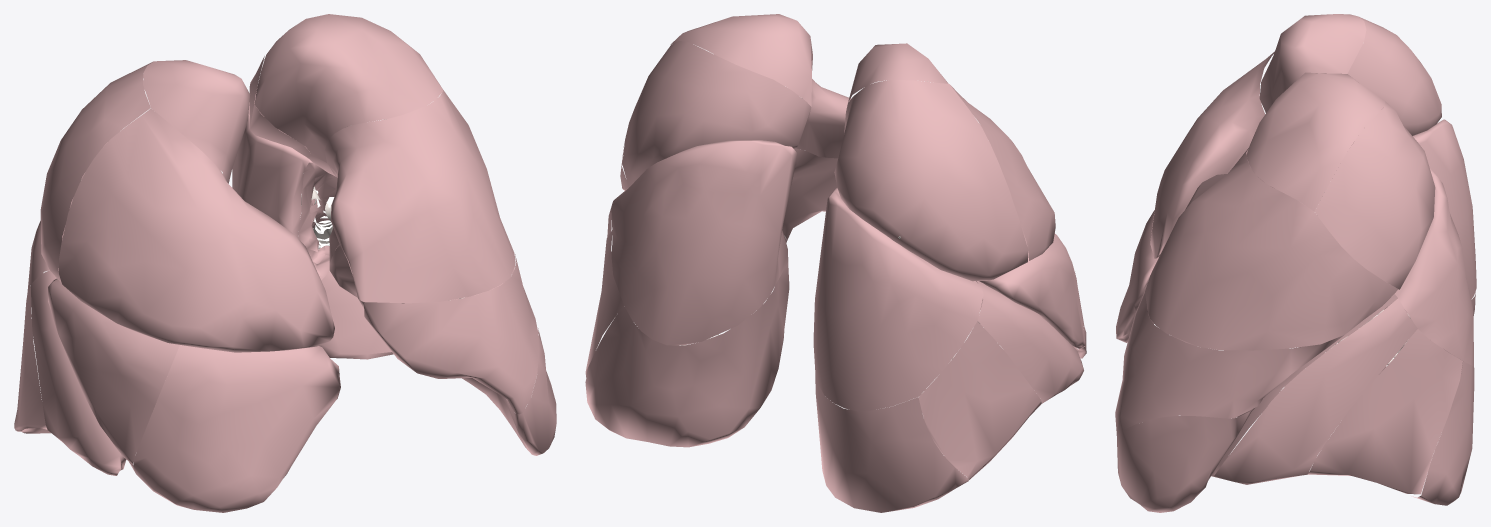
Rendered from 3d-vh-m-lung-20.glb.
The picture shows the model from 3 angles, left to right: view 1: azimuth 30°, elevation 25°; view 2: azimuth 150°, elevation 25°; view 3: azimuth 270°, elevation 25°; orthographic projection. The views are drawn at different scales.
Parts seen in each view (by area): view 1: VH_M_right_anterior_bronchopulmonary_segment, VH_M_left_anterior_bronchopulmonary_segment, VH_M_right_medial_bronchopulmonary_segment, VH_M_left_apical_bronchopulmonary_segment, VH_M_left_lingula_superior_bronchopulmonary_segment, VH_M_right_lateral_bronchopulmonary_segment, VH_M_right_apical_bronchopulmonary_segment, VH_M_right_posterior_bronchopulmonary_segment, VH_M_right_anterior_basal_bronchopulmonary_segment, VH_M_left_superior_bronchopulmonary_segment, VH_M_left_lingula_inferior_bronchopulmonary_segment, VH_M_left_medial_basal_bronchopulmonary_segment (+5 smaller); view 2: VH_M_left_superior_bronchopulmonary_segment, VH_M_right_posterior_bronchopulmonary_segment, VH_M_right_superior_bronchopulmonary_segment, VH_M_left_posetrior_basal_bronchopulmonary_segment, VH_M_left_posterior_bronchopulmonary_segment, VH_M_right_posterior_basal_bronchopulmonary_segment, VH_M_right_lateral_basal_bronchopulmonary_segment, VH_M_left_apical_bronchopulmonary_segment, VH_M_right_anterior_basal_bronchopulmonary_segment, VH_M_right_lateral_bronchopulmonary_segment, VH_M_right_anterior_bronchopulmonary_segment, VH_M_left_lingula_superior_bronchopulmonary_segment (+3 smaller); view 3: VH_M_left_anterior_bronchopulmonary_segment, VH_M_left_posterior_bronchopulmonary_segment, VH_M_left_lateral_basal_bronchopulmonary_segment, VH_M_left_anterior_basal_bronchopulmonary_segment, VH_M_left_lingula_superior_bronchopulmonary_segment, VH_M_left_apical_bronchopulmonary_segment, VH_M_left_lingula_inferior_bronchopulmonary_segment, VH_M_right_anterior_bronchopulmonary_segment, VH_M_left_superior_bronchopulmonary_segment, VH_M_right_posterior_bronchopulmonary_segment, VH_M_right_apical_bronchopulmonary_segment, VH_M_left_posetrior_basal_bronchopulmonary_segment (+3 smaller).
Part boxes in pixels (left/top/right/bottom): VH_M_right_anterior_bronchopulmonary_segment: left=59, top=108, right=334, bottom=352; VH_M_left_anterior_bronchopulmonary_segment: left=324, top=90, right=515, bottom=303; VH_M_right_medial_bronchopulmonary_segment: left=129, top=345, right=340, bottom=512; VH_M_left_apical_bronchopulmonary_segment: left=254, top=14, right=443, bottom=162; VH_M_left_lingula_superior_bronchopulmonary_segment: left=359, top=254, right=538, bottom=414; VH_M_right_lateral_bronchopulmonary_segment: left=48, top=278, right=179, bottom=465; VH_M_right_apical_bronchopulmonary_segment: left=143, top=60, right=250, bottom=183; VH_M_right_posterior_bronchopulmonary_segment: left=40, top=62, right=152, bottom=283; VH_M_right_anterior_basal_bronchopulmonary_segment: left=30, top=269, right=126, bottom=475; VH_M_left_superior_bronchopulmonary_segment: left=232, top=88, right=312, bottom=238; VH_M_left_lingula_inferior_bronchopulmonary_segment: left=329, top=244, right=556, bottom=455; VH_M_left_medial_basal_bronchopulmonary_segment: left=319, top=271, right=502, bottom=359; VH_M_left_superior_bronchopulmonary_segment: left=611, top=140, right=796, bottom=345; VH_M_right_posterior_bronchopulmonary_segment: left=834, top=80, right=1028, bottom=281; VH_M_right_superior_bronchopulmonary_segment: left=813, top=187, right=983, bottom=411; VH_M_left_posetrior_basal_bronchopulmonary_segment: left=585, top=262, right=789, bottom=447; VH_M_left_posterior_bronchopulmonary_segment: left=622, top=41, right=811, bottom=187; VH_M_right_posterior_basal_bronchopulmonary_segment: left=815, top=369, right=968, bottom=512; VH_M_right_lateral_basal_bronchopulmonary_segment: left=918, top=321, right=1041, bottom=480; VH_M_left_apical_bronchopulmonary_segment: left=670, top=14, right=812, bottom=106; VH_M_right_anterior_basal_bronchopulmonary_segment: left=977, top=281, right=1083, bottom=403; VH_M_right_lateral_bronchopulmonary_segment: left=976, top=232, right=1085, bottom=348; VH_M_right_anterior_bronchopulmonary_segment: left=950, top=85, right=1055, bottom=260; VH_M_left_lingula_superior_bronchopulmonary_segment: left=623, top=148, right=838, bottom=240; VH_M_left_anterior_bronchopulmonary_segment: left=1145, top=148, right=1398, bottom=350; VH_M_left_posterior_bronchopulmonary_segment: left=1314, top=101, right=1435, bottom=289; VH_M_left_lateral_basal_bronchopulmonary_segment: left=1308, top=329, right=1462, bottom=494; VH_M_left_anterior_basal_bronchopulmonary_segment: left=1211, top=298, right=1417, bottom=484; VH_M_left_lingula_superior_bronchopulmonary_segment: left=1115, top=291, right=1395, bottom=434; VH_M_left_apical_bronchopulmonary_segment: left=1246, top=72, right=1385, bottom=211; VH_M_left_lingula_inferior_bronchopulmonary_segment: left=1116, top=408, right=1254, bottom=512; VH_M_right_anterior_bronchopulmonary_segment: left=1150, top=51, right=1274, bottom=258; VH_M_left_superior_bronchopulmonary_segment: left=1394, top=168, right=1473, bottom=366; VH_M_right_posterior_bronchopulmonary_segment: left=1347, top=17, right=1441, bottom=135; VH_M_right_apical_bronchopulmonary_segment: left=1259, top=14, right=1366, bottom=112; VH_M_left_posetrior_basal_bronchopulmonary_segment: left=1411, top=361, right=1474, bottom=505.
Size of the model in its own units: 0.2592 by 0.2296 by 0.1899.
